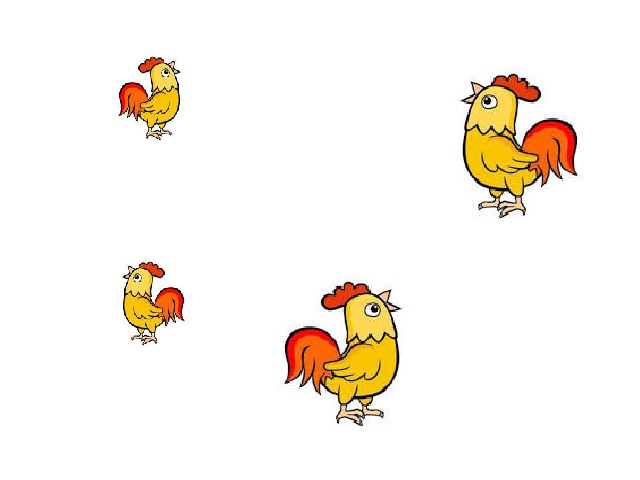crown: (493, 74, 545, 102), (320, 283, 369, 306), (136, 56, 164, 72), (139, 262, 165, 278)
eyes: (364, 301, 380, 320), (481, 93, 498, 109), (161, 66, 168, 79), (133, 272, 142, 282)
feet: (482, 194, 532, 218), (337, 403, 387, 425), (145, 125, 172, 140), (134, 330, 159, 344)
tail: (524, 118, 577, 186), (287, 326, 335, 393), (155, 288, 187, 325), (119, 81, 147, 117)
